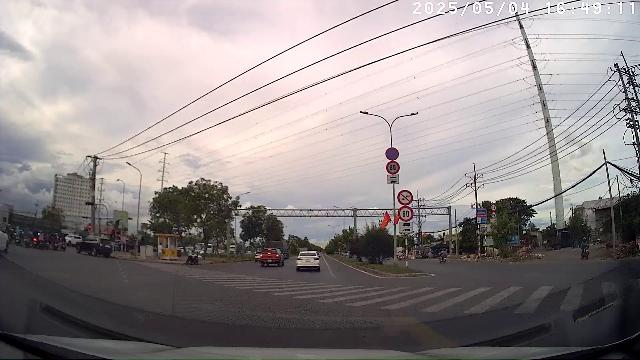127-toc-do-toi-da-60: (398, 206, 414, 222)
127-toc-do-toi-da-80: (386, 162, 400, 174)
130-cam-dung-va-do-xe: (385, 148, 399, 160)
